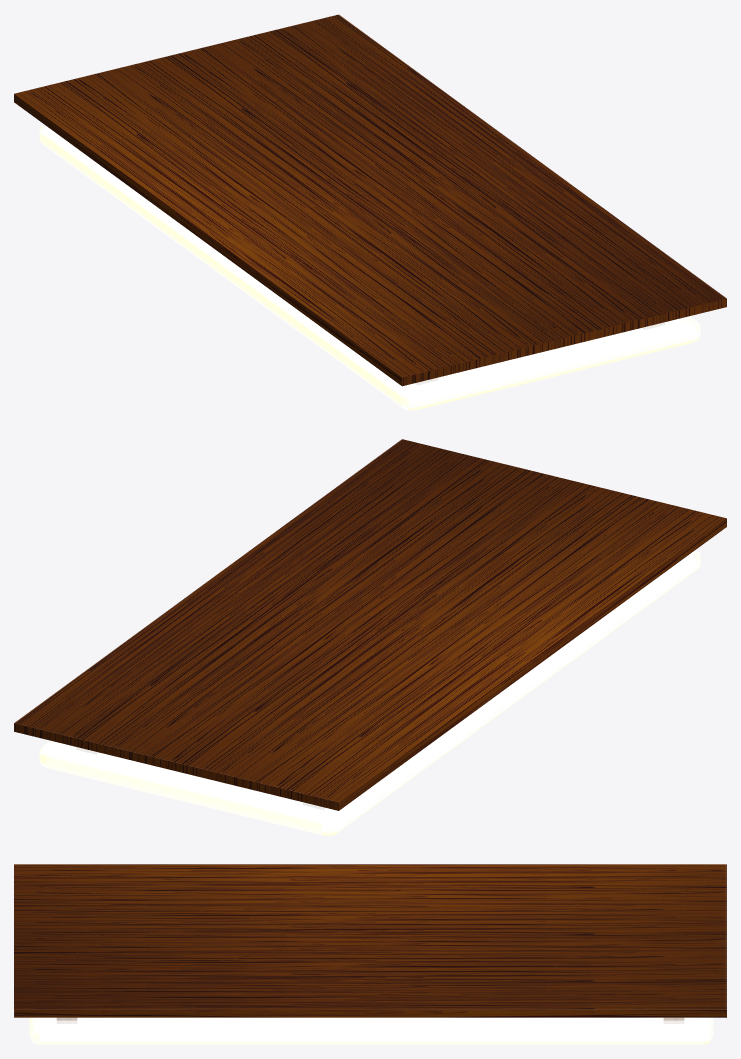
3 renders of one model, top to bottom at view 1: azimuth 30°, elevation 25°; view 2: azimuth 150°, elevation 25°; view 3: azimuth 270°, elevation 25°, orthographic. The views are drawn at different scales.
Visible parts, largest first — view 1: Base_1, Lamp_0; view 2: Base_1, Lamp_0; view 3: Base_1, Lamp_0.
Boxes of the visible parts, left/top/right/bottom form: Base_1: left=14, top=14, right=726, bottom=386; Lamp_0: left=39, top=124, right=700, bottom=410; Base_1: left=14, top=439, right=726, bottom=810; Lamp_0: left=39, top=550, right=700, bottom=835; Base_1: left=14, top=864, right=726, bottom=1020; Lamp_0: left=29, top=1017, right=713, bottom=1044.
Bounding box in the file's own units: 0.7972 × 0.1117 × 1.65.
Materials: 2 (1 with a texture image).
